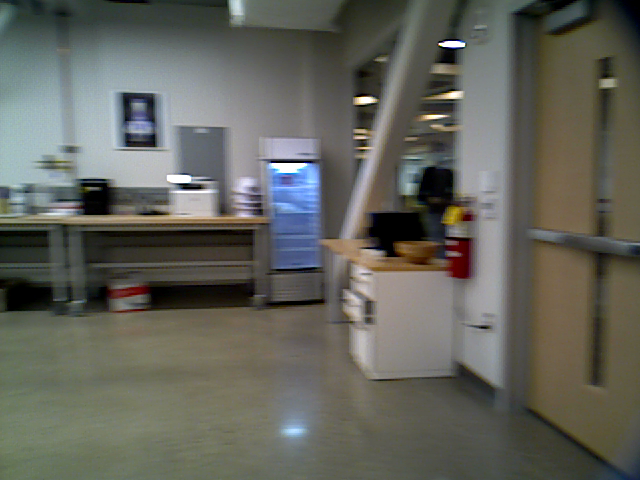painting2: (114, 91, 163, 150)
